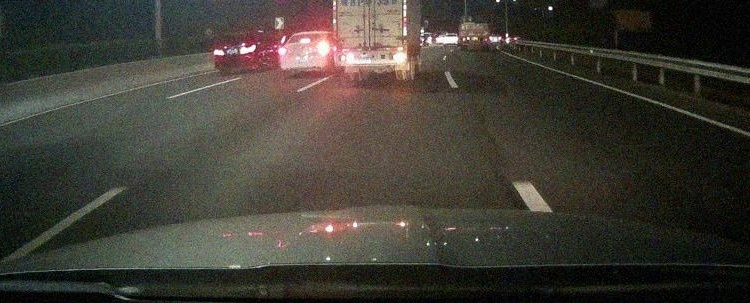L_light: (278, 46, 290, 55), (213, 48, 224, 56)
R_light: (240, 45, 255, 55), (317, 45, 331, 53)
T_light: (299, 38, 310, 43), (238, 34, 247, 36)
night-no: (213, 31, 260, 74)
night-right: (278, 30, 332, 75)
